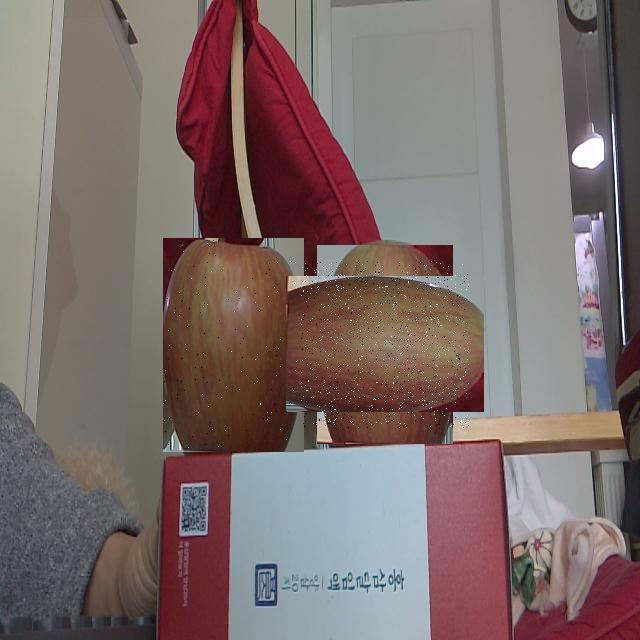apple: (163, 238, 304, 452), (301, 261, 469, 428)
